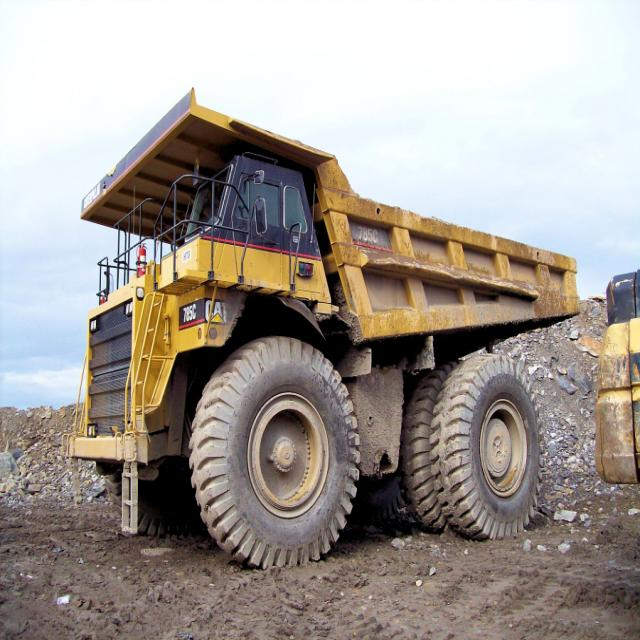dump_truck: (60, 80, 590, 582)
